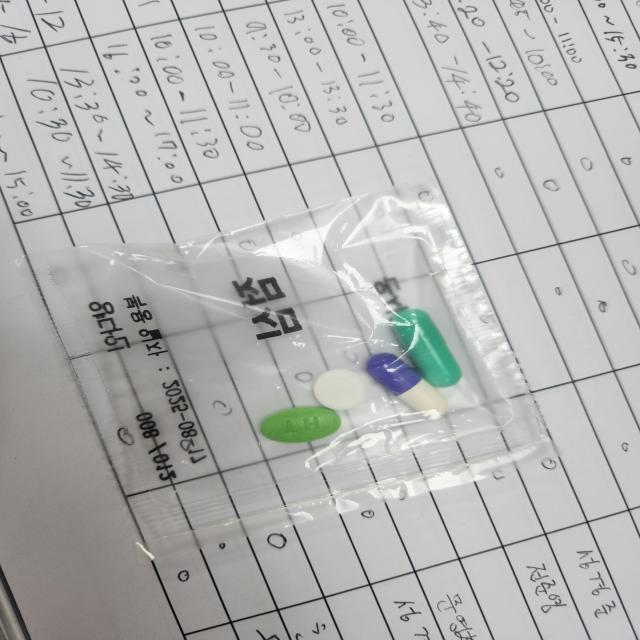러키펜정: (311, 370, 370, 413)
씨엠지세파클러캡슐: (366, 352, 449, 416)
에르도캡슐: (389, 307, 462, 391)
휴티렌정: (259, 407, 342, 447)
